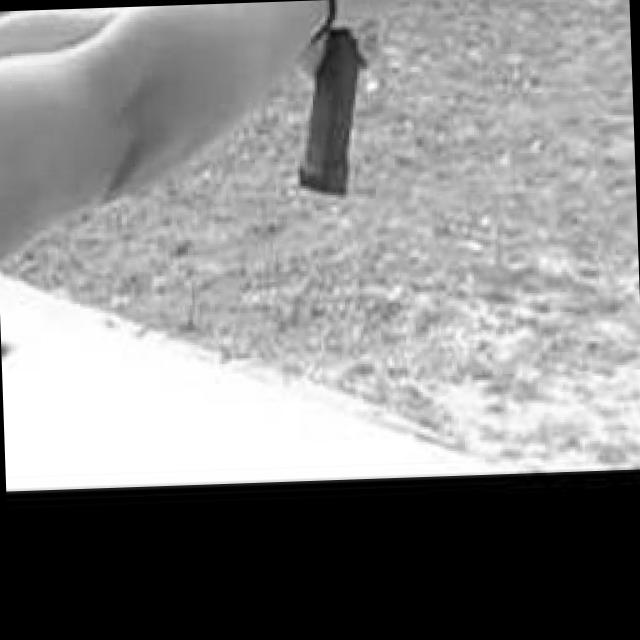Guns: (281, 0, 478, 211)
